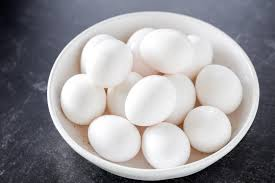eggs: (198, 57, 249, 117), (183, 101, 237, 144), (138, 28, 190, 70), (133, 73, 175, 122), (88, 110, 132, 156), (86, 29, 121, 85), (62, 69, 101, 118), (142, 125, 182, 169)
